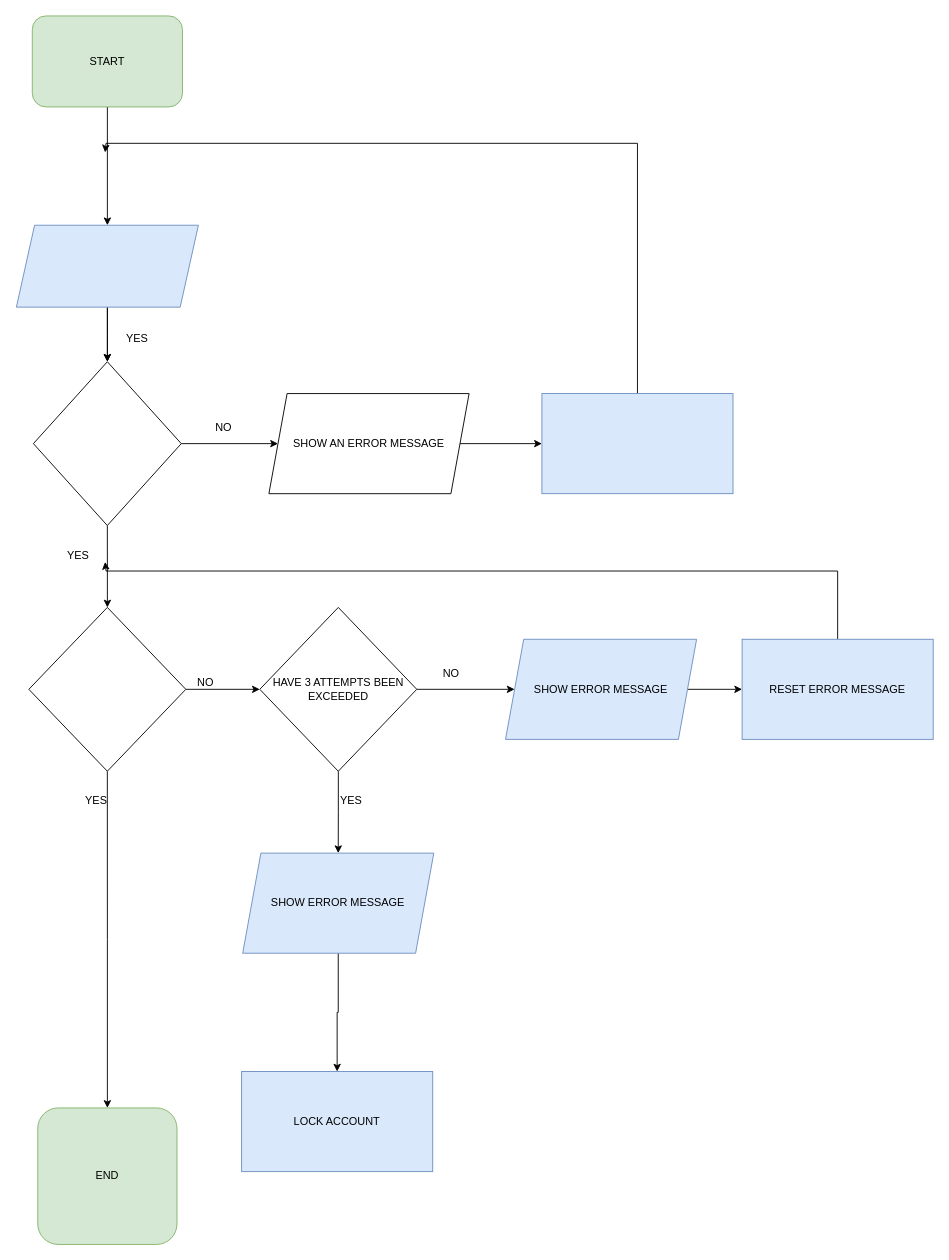
Some shapes in this 949 by 1260 pixel diagram are drawn without their labels. Each missing label, with the centre of its shape:
CHECK IF USERNAME IS VALID: (x=106, y=443)
ENTER USERNAME AND PASSWORD: (x=106, y=265)
INCREMENT ATTEMPTS: (x=637, y=443)
IS PASSWORD CORRECT: (x=107, y=689)
